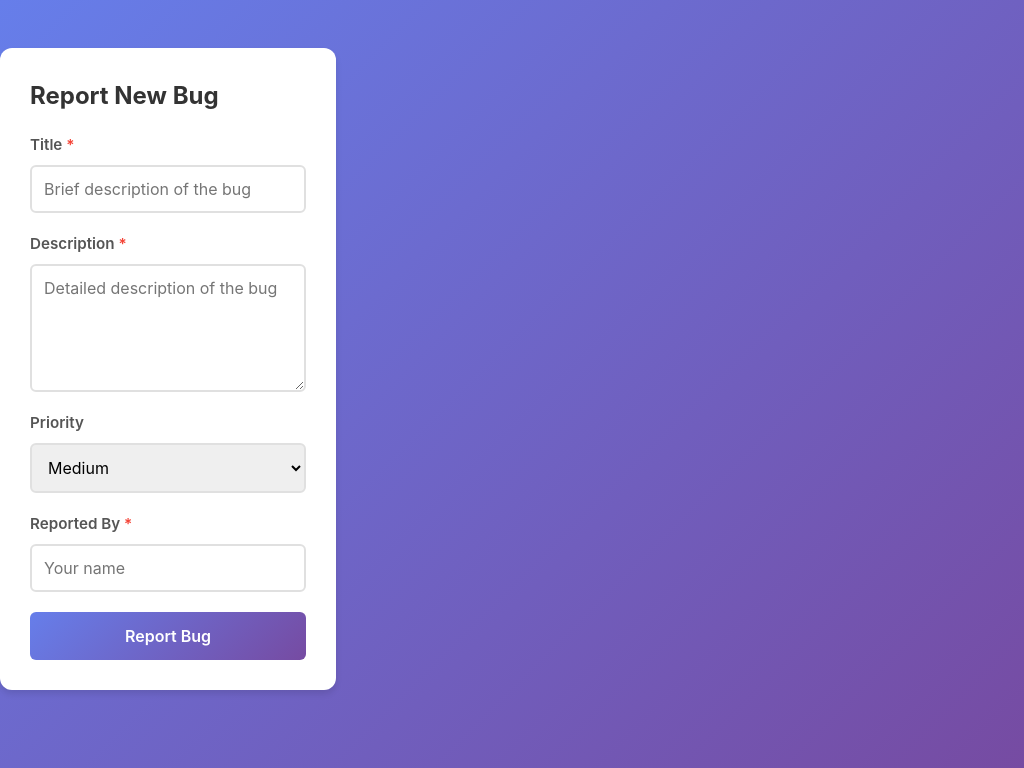
BugForm Component › displays submit error message
Type "Test" into the field with test id "title-input" at point(168, 189), box top-left (30, 165), bottom-right (306, 213)
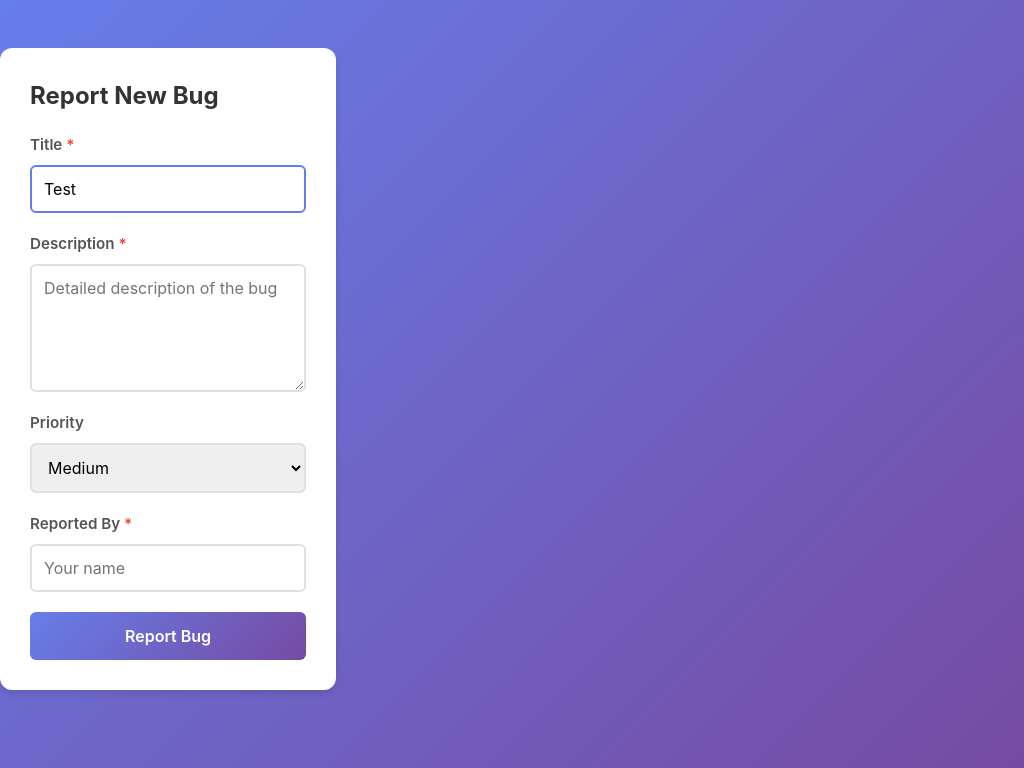
Type "Description" into the text box with test id "description-input" at point(168, 328), box top-left (30, 264), bottom-right (306, 392)
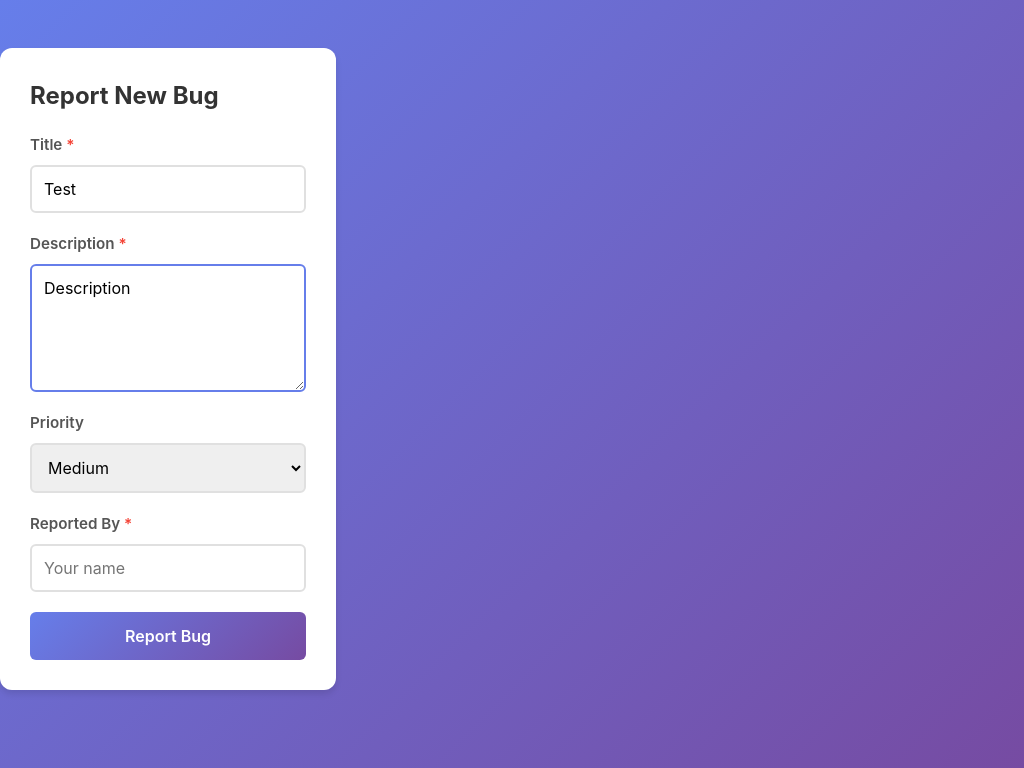
Type "Tester" into the field with test id "reporter-input" at point(168, 568), box top-left (30, 544), bottom-right (306, 592)
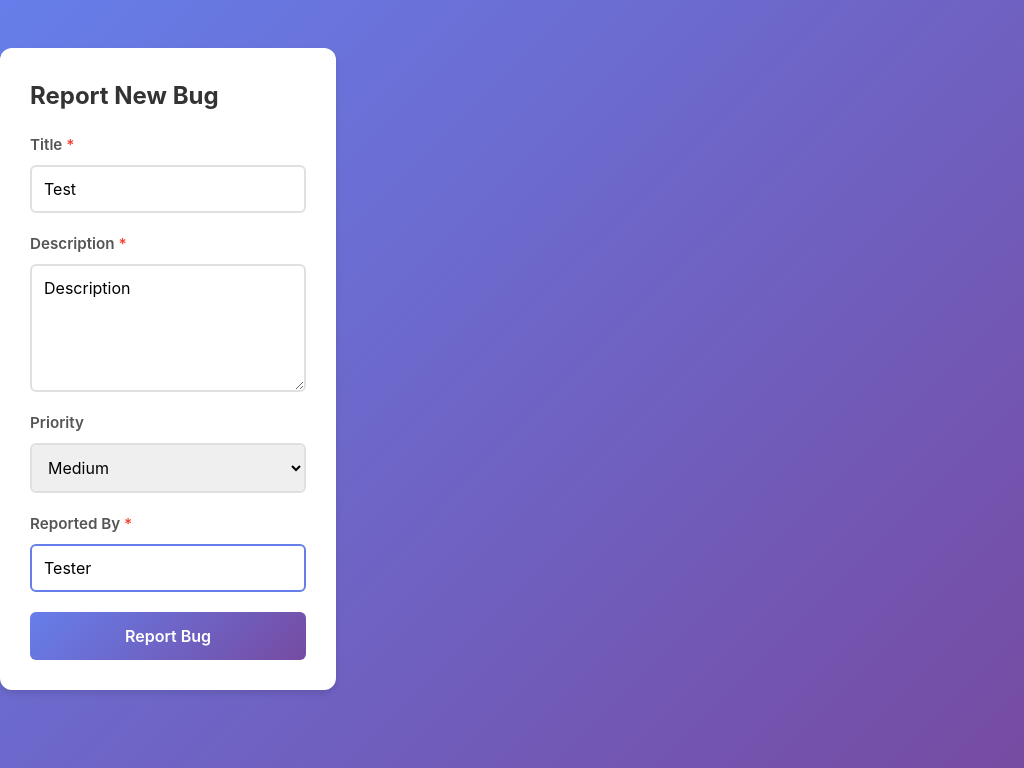
Click the button "Report Bug" at point(168, 636), box top-left (30, 612), bottom-right (306, 660)
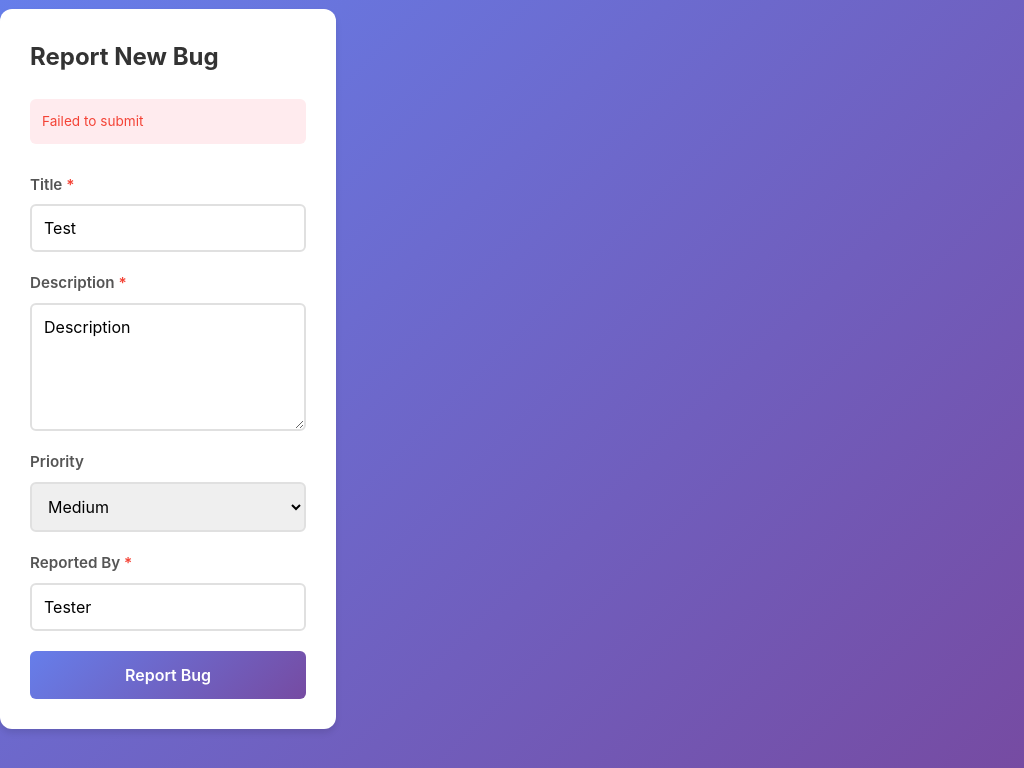
expect the text "Failed to submit" is shown: met, box top-left (30, 99), bottom-right (306, 144)
